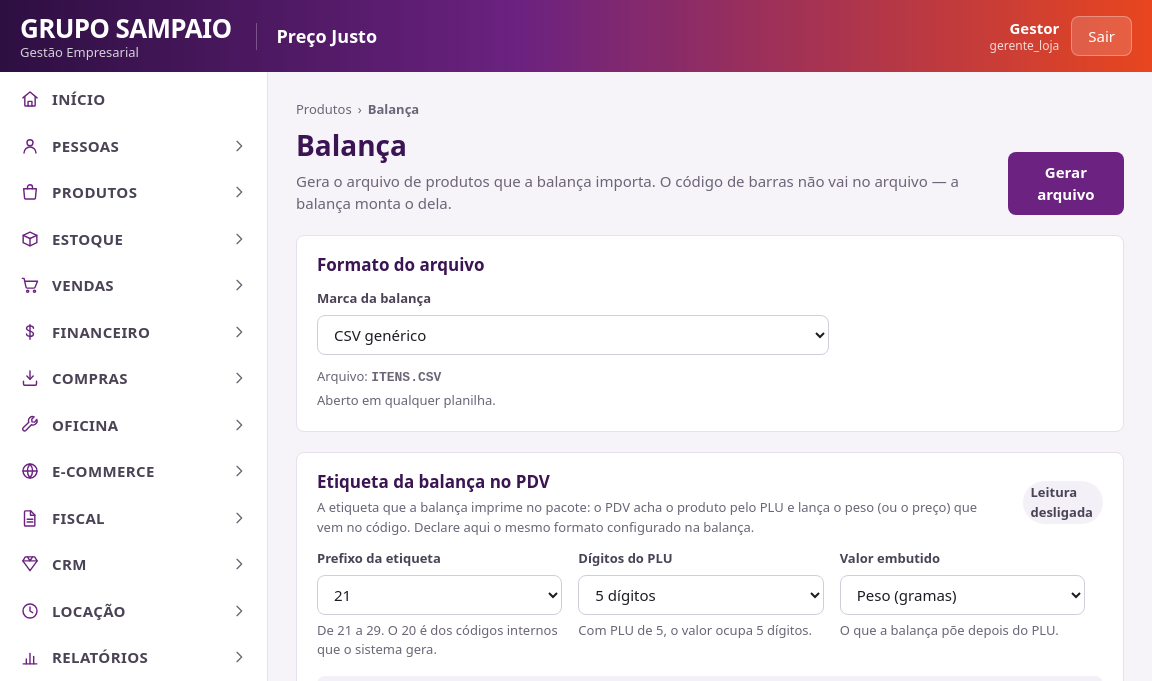
Test: quem cadastra produtos declara a etiqueta da balança › sem declaração, o bloco diz "desligada"; o exemplo acompanha a escolha e o Salvar manda a declaração
Expected: the text "Leitura desligada" is shown, [1022,481,1103,524]
Expected: the button "Desligar leitura" is not shown
Select "23" in the dropdown labelled "Prefixo da etiqueta" at [440, 594], box [317,574,562,614]
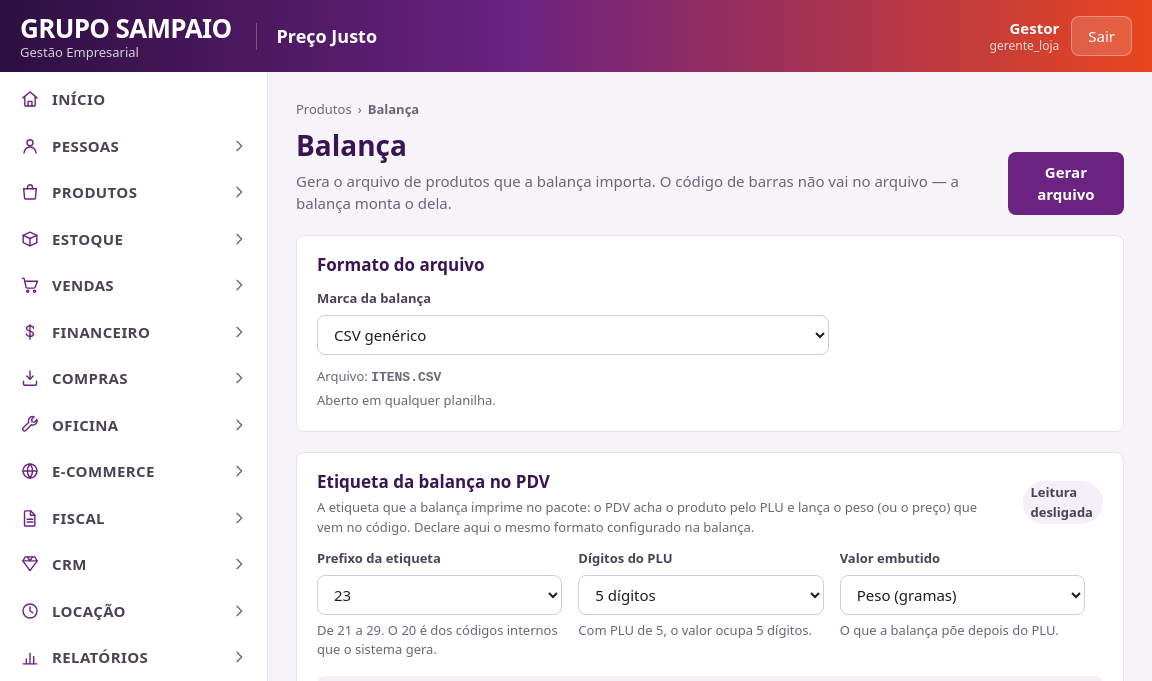
Select "4 dígitos" in the dropdown labelled "Dígitos do PLU" at [701, 594], box [578,574,824,614]
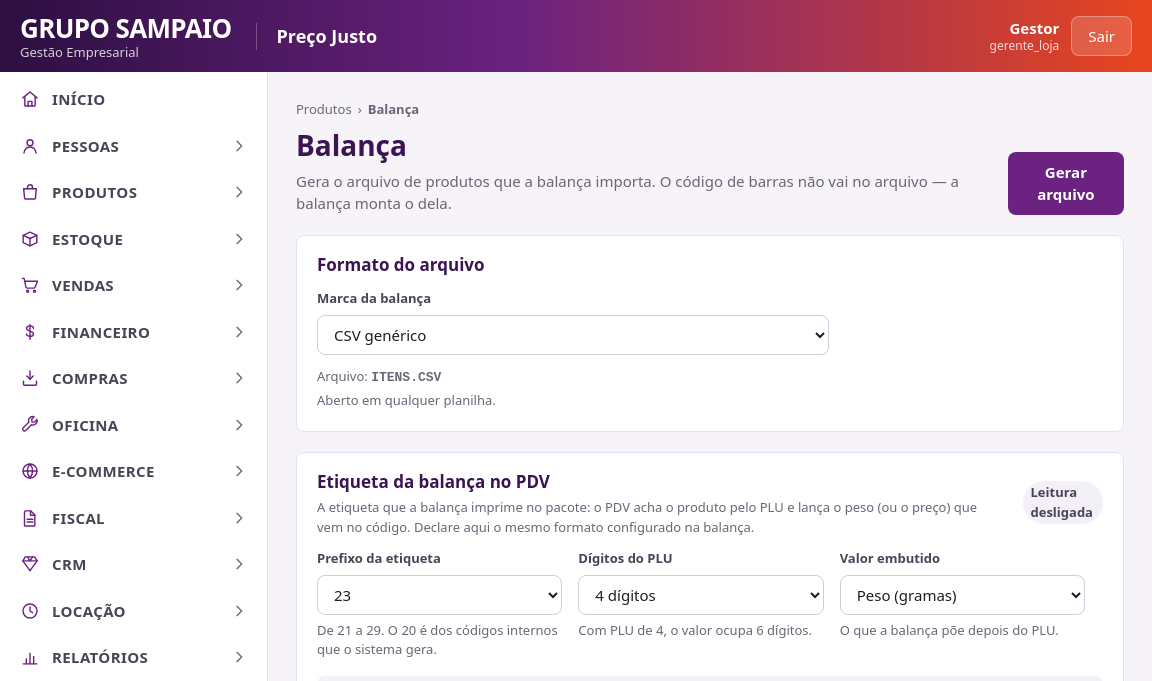
Select "Preço total (centavos)" in the dropdown labelled "Valor embutido" at [962, 594], box [840,574,1085,614]
(page scrolled)
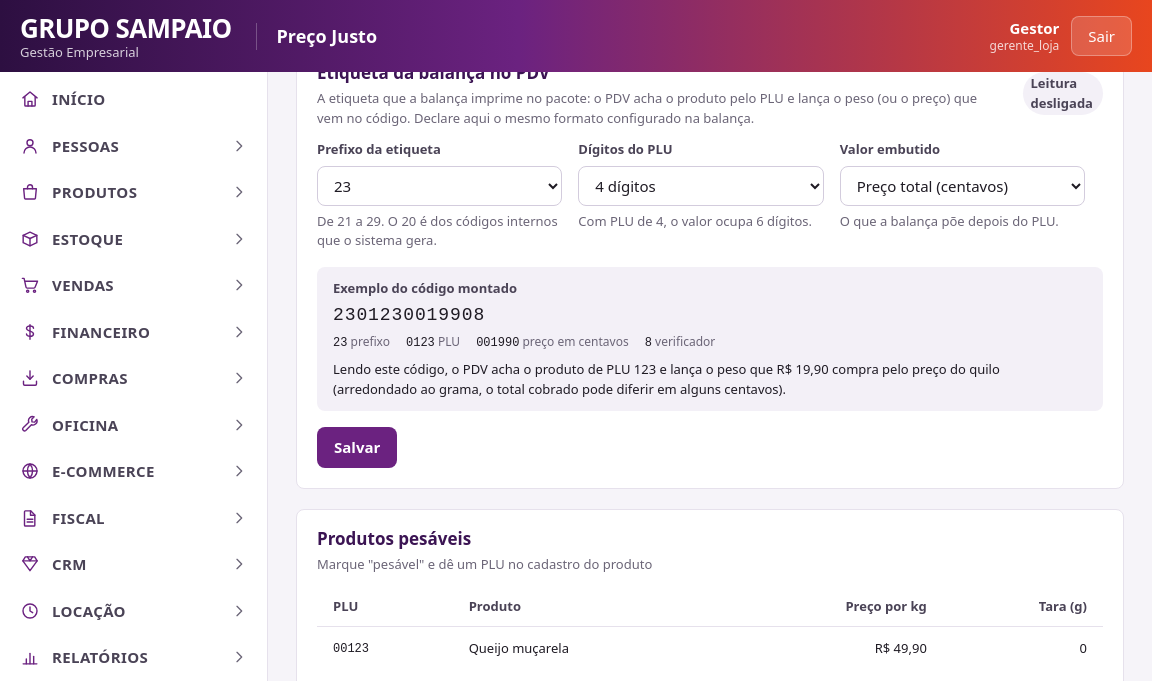
Now the text "2301230019908" is shown, box [333,305,485,325]
Now the text "arredondado ao grama" is shown, box [333,360,1000,398]
Click the button "Salvar" at [357, 447], box [317,427,397,468]
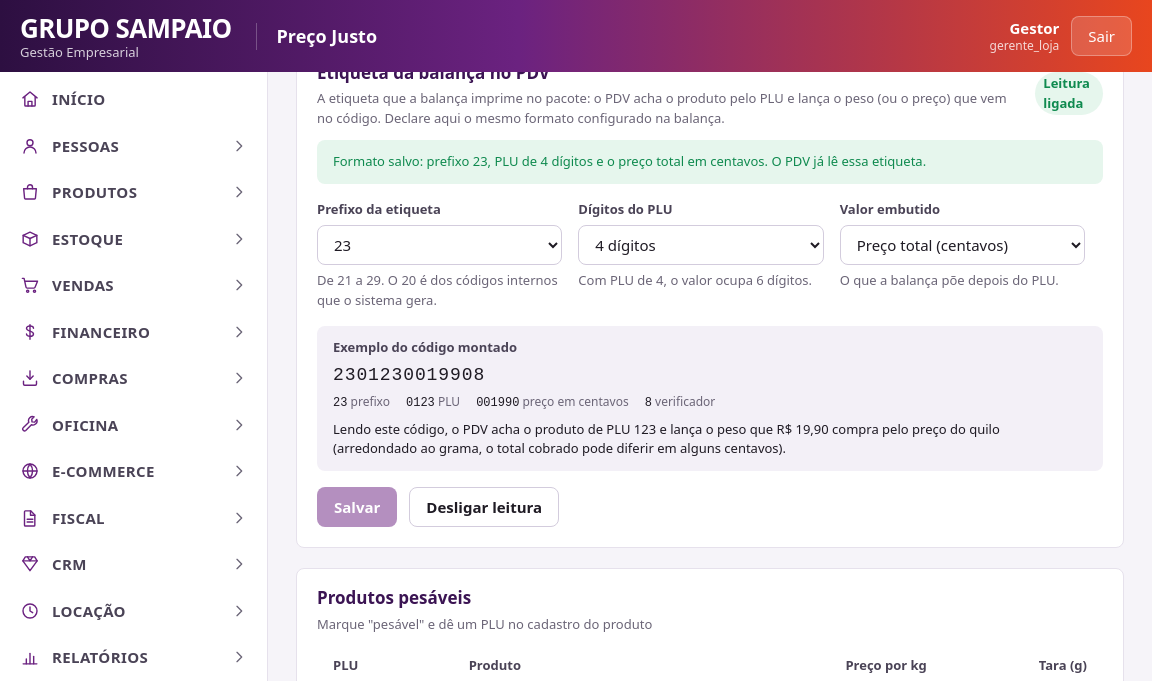
Now the text "Leitura ligada" is shown, box [1035,72,1103,115]
Now the message shows "Formato salvo: prefixo 23, PLU de 4 dígitos", box [333,152,926,170]
Now the button "Desligar leitura" is shown, box [409,486,559,527]
